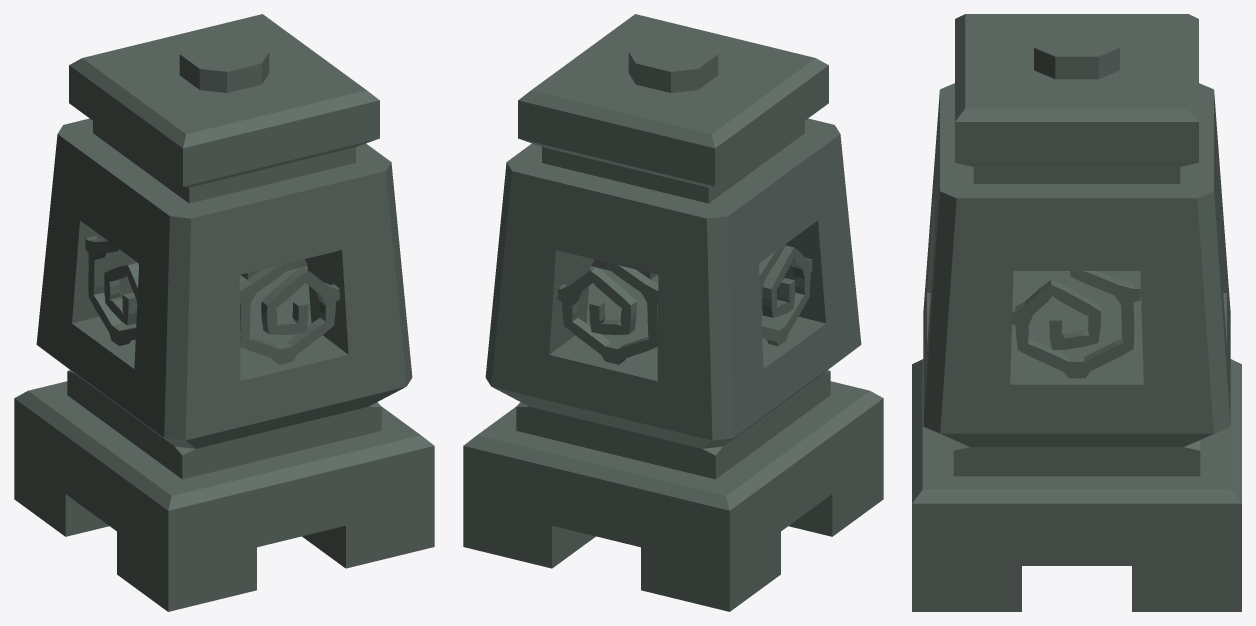
Rendered from Ruins_2a.fbx.
The picture shows the model from 3 angles, left to right: view 1: azimuth 30°, elevation 25°; view 2: azimuth 150°, elevation 25°; view 3: azimuth 270°, elevation 25°; orthographic projection. The views are drawn at different scales.
Visible parts, largest first — view 1: Plane.001; view 2: Plane.001; view 3: Plane.001.
Part boxes in pixels (x1=…): Plane.001: x1=14, y1=14, x2=434, y2=611; Plane.001: x1=463, y1=14, x2=883, y2=611; Plane.001: x1=912, y1=14, x2=1241, y2=611.
Bounding box in the file's own units: 109 × 184 × 109.
